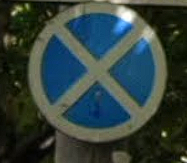oprirea_interzisa: (27, 4, 169, 143)
